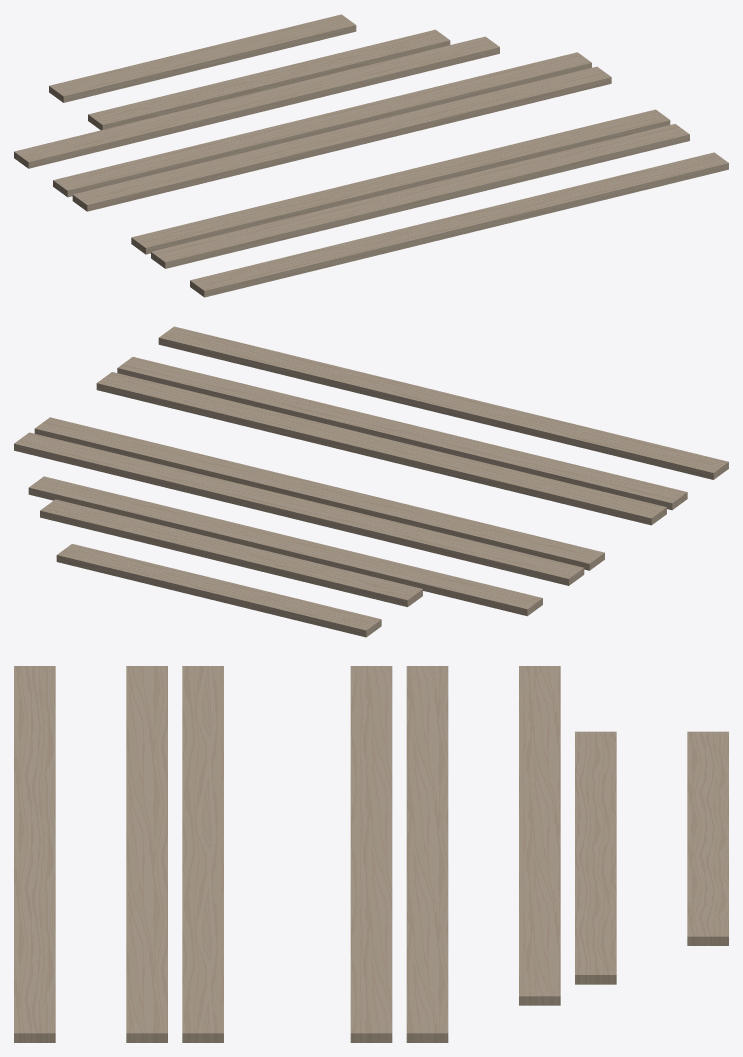
File: kd_stage_135ded_3_8_bounded.glb
3 views of the same model, one above another, from view 1: azimuth 30°, elevation 25°; view 2: azimuth 150°, elevation 25°; view 3: azimuth 270°, elevation 25° (orthographic). The views are drawn at different scales.
Visible parts, largest first — view 1: kd_stage_135ded_3_8_bounded; view 2: kd_stage_135ded_3_8_bounded; view 3: kd_stage_135ded_3_8_bounded.
Boxes of the visible parts, bbox=[...] form: kd_stage_135ded_3_8_bounded: bbox=[14, 14, 728, 297]; kd_stage_135ded_3_8_bounded: bbox=[14, 326, 728, 637]; kd_stage_135ded_3_8_bounded: bbox=[14, 666, 728, 1042].
Size of the model in its own units: 4.16 by 0.05 by 3.42.
Materials: 1 (1 with a texture image).
